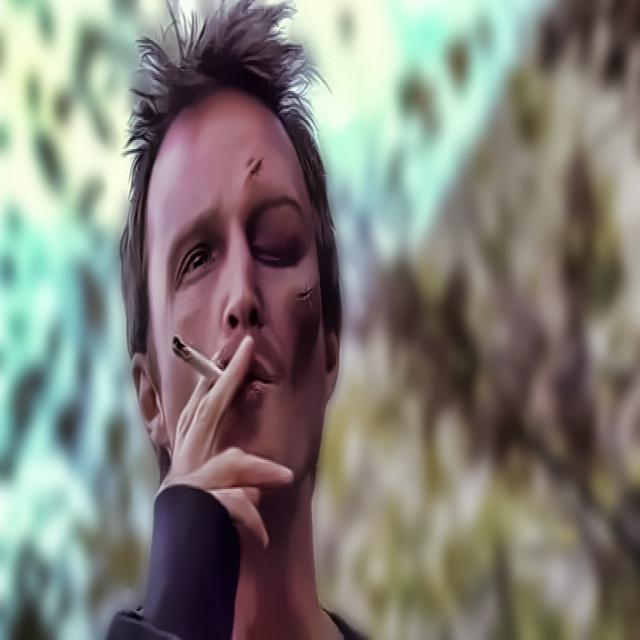cigarette: (156, 331, 249, 392)
